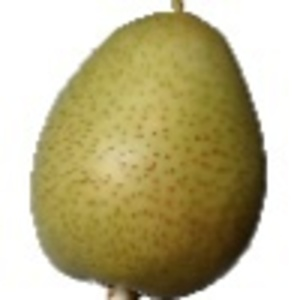pera: (1, 1, 268, 300)
